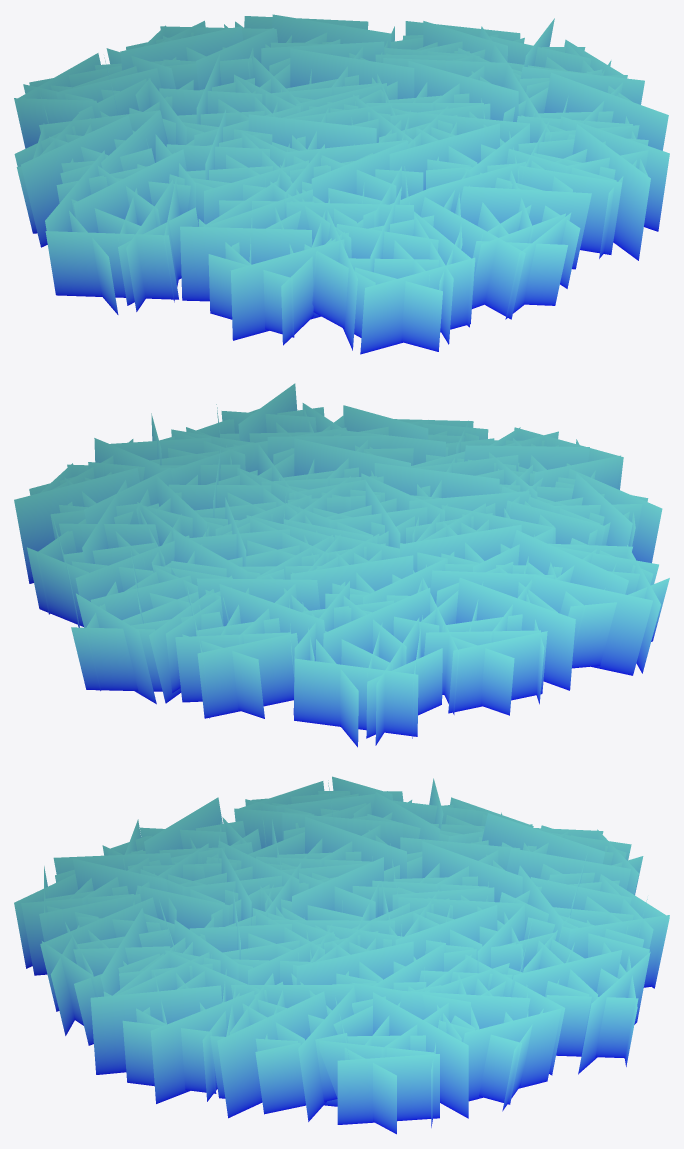
File: SM_Env_Grass_Tall_Clump_05.FBX
The picture shows the model from 3 angles, top to bottom: view 1: azimuth 30°, elevation 25°; view 2: azimuth 150°, elevation 25°; view 3: azimuth 270°, elevation 25°; orthographic projection.
Visible parts, largest first — view 1: SM_Env_Grass_Tall_Clump_05; view 2: SM_Env_Grass_Tall_Clump_05; view 3: SM_Env_Grass_Tall_Clump_05.
Boxes of the visible parts, x1,y1,x2,y2 form: SM_Env_Grass_Tall_Clump_05: [14, 14, 669, 354]; SM_Env_Grass_Tall_Clump_05: [14, 383, 669, 747]; SM_Env_Grass_Tall_Clump_05: [14, 776, 669, 1134].
Size of the model in its own units: 733 by 696 by 144.
